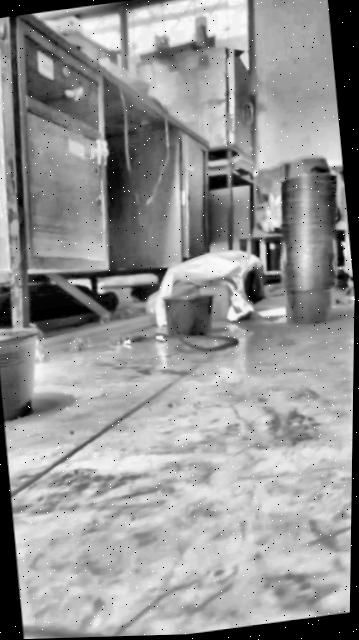pot: (0, 325, 47, 421), (161, 289, 218, 339)
